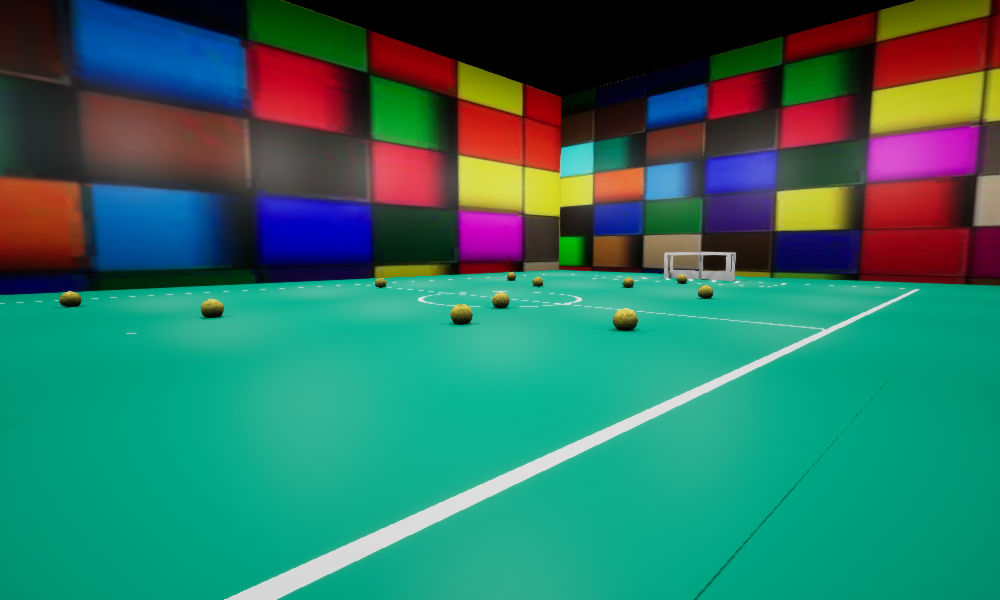b: (613, 308, 637, 330), (450, 304, 472, 323), (201, 299, 223, 317), (59, 291, 81, 306), (492, 292, 509, 307), (698, 285, 712, 298), (622, 277, 633, 287), (375, 278, 386, 287), (532, 277, 542, 286), (676, 274, 686, 282), (507, 272, 515, 279)
g: (664, 252, 735, 280)
